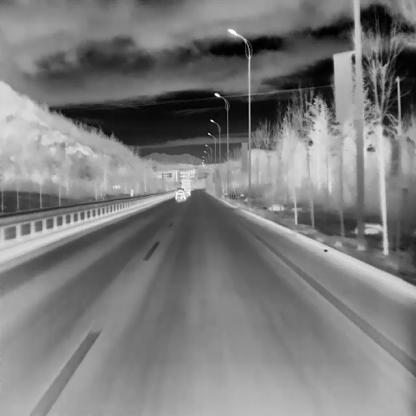car: (174, 188, 187, 200)
truck: (180, 179, 190, 195)
